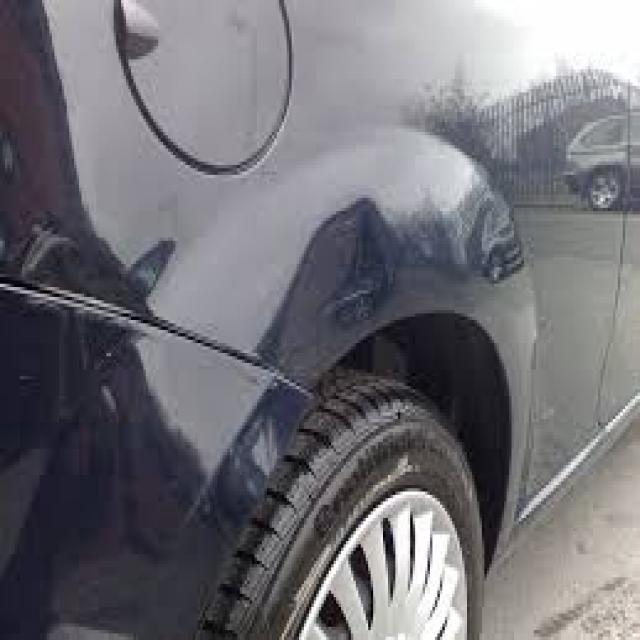minor: (267, 186, 429, 363)
